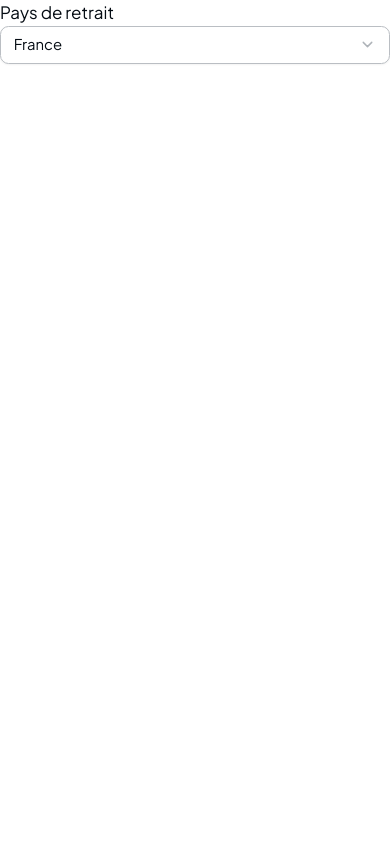
Test case: CountrySelect › opens on the frequent fourteen, then every country by name
The image size is (390, 844).
Click the dropdown named "Pays de retrait" at (38, 44), box [0,26,389,64]
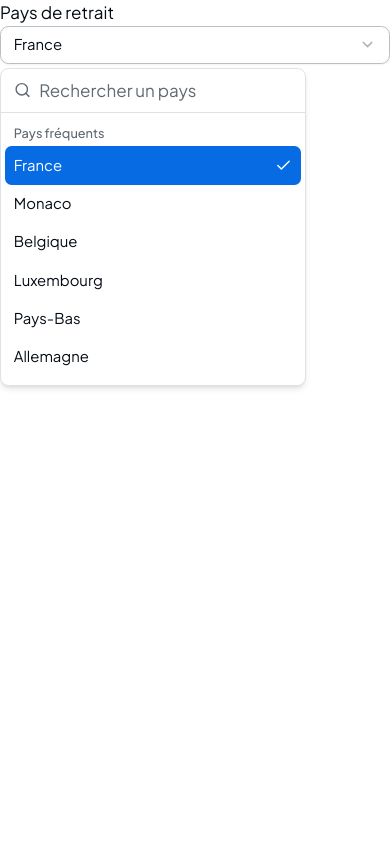
Now the option "France" is shown, box [5,146,301,185]
